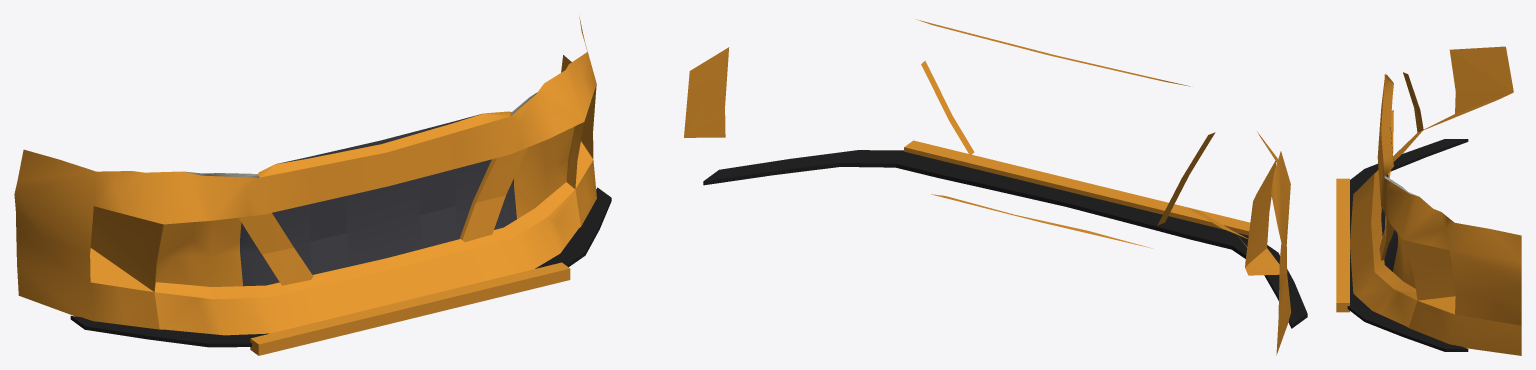
File: protoHatch_frontBumper_hayate.glb
3 views of the same model, side by side, from view 1: azimuth 30°, elevation 25°; view 2: azimuth 150°, elevation 25°; view 3: azimuth 270°, elevation 25° (orthographic). The views are drawn at different scales.
Visible parts, largest first — view 1: frontBumper_hayate; view 2: frontBumper_hayate; view 3: frontBumper_hayate.
Boxes of the visible parts, x1,y1,x2,y2 form: frontBumper_hayate: (14,17,611,355); frontBumper_hayate: (684,19,1307,355); frontBumper_hayate: (1336,46,1521,355).
Bounding box in the file's own units: 1.68 × 0.428 × 0.5728.
